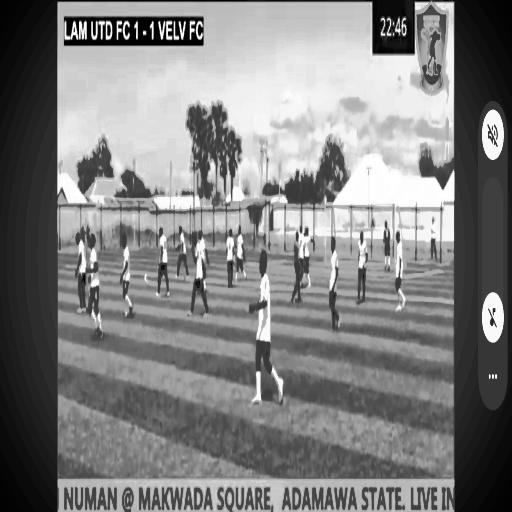keeper1: (382, 216, 392, 269)
referee: (291, 225, 302, 310)
team1: (190, 223, 208, 319), (71, 224, 89, 314), (329, 220, 341, 328), (154, 220, 170, 298), (356, 225, 368, 304), (176, 218, 188, 287), (224, 224, 234, 288)
team2: (250, 240, 284, 407), (118, 218, 134, 322), (89, 237, 103, 340), (393, 230, 409, 318), (234, 228, 249, 278), (197, 223, 207, 273), (305, 214, 311, 292)
